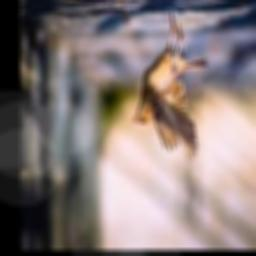Sparrow: (132, 8, 207, 162)
